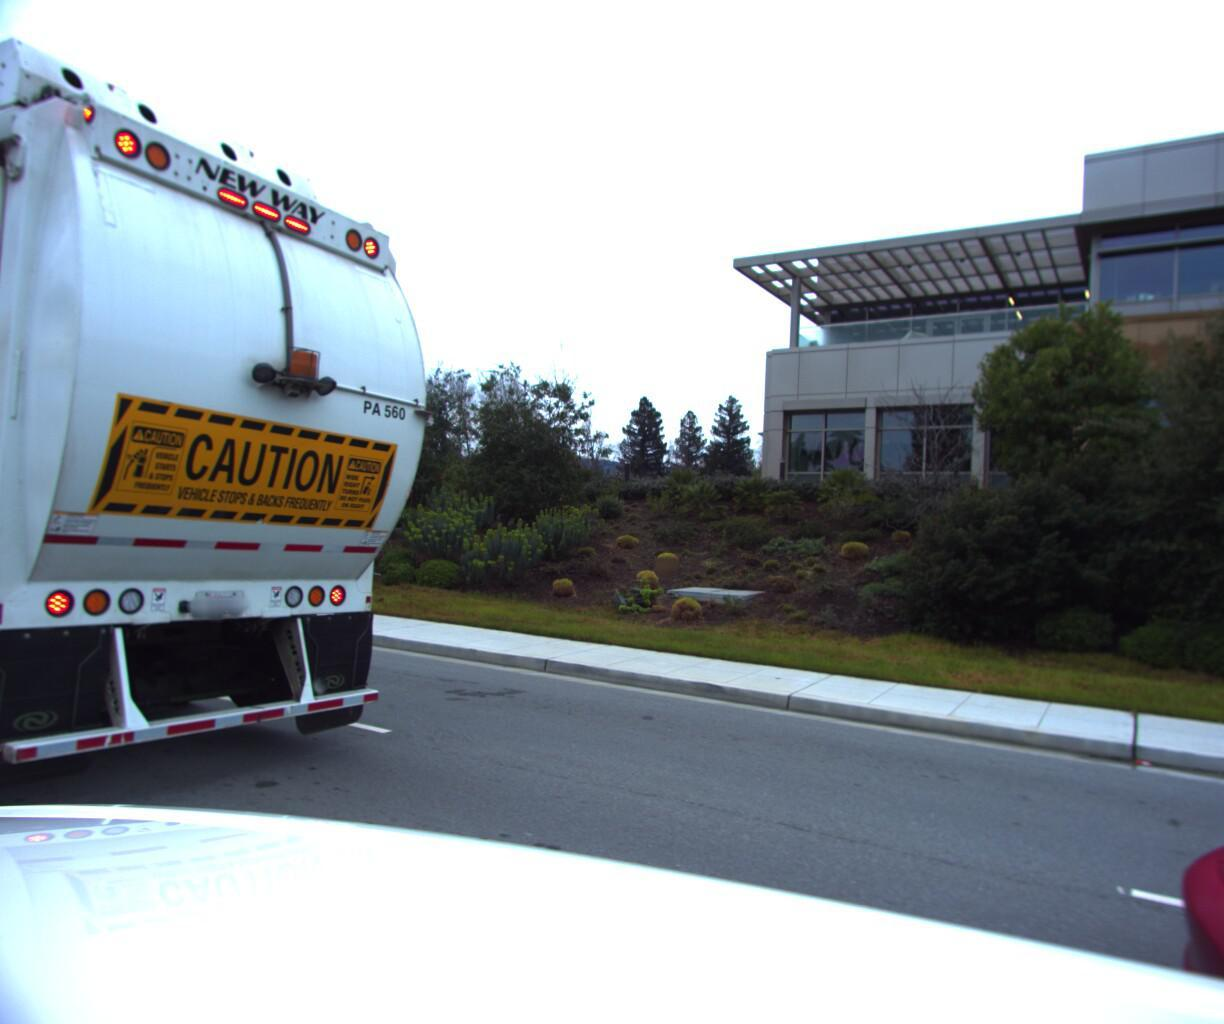truck: (0, 0, 460, 901)
